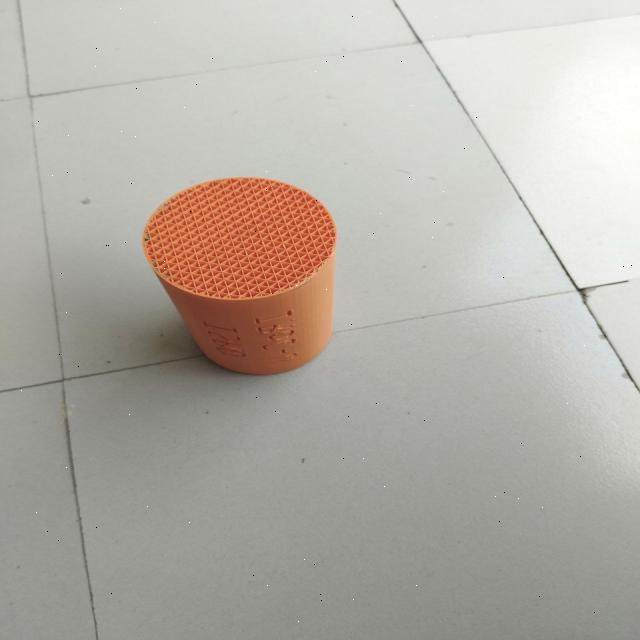Cylinder: (142, 175, 338, 375)
